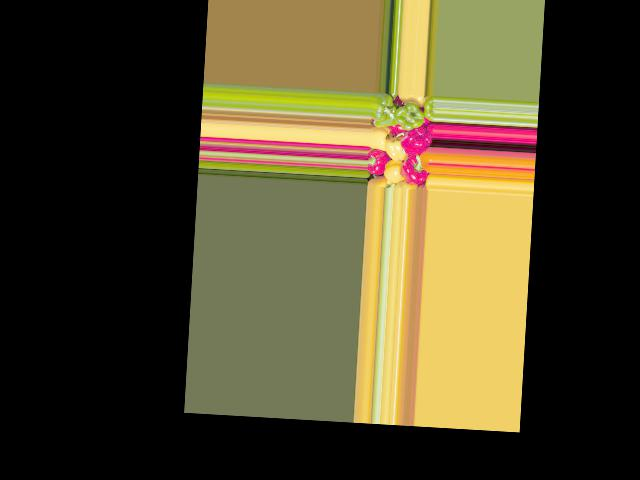bell_pepper: (419, 95, 435, 121)
